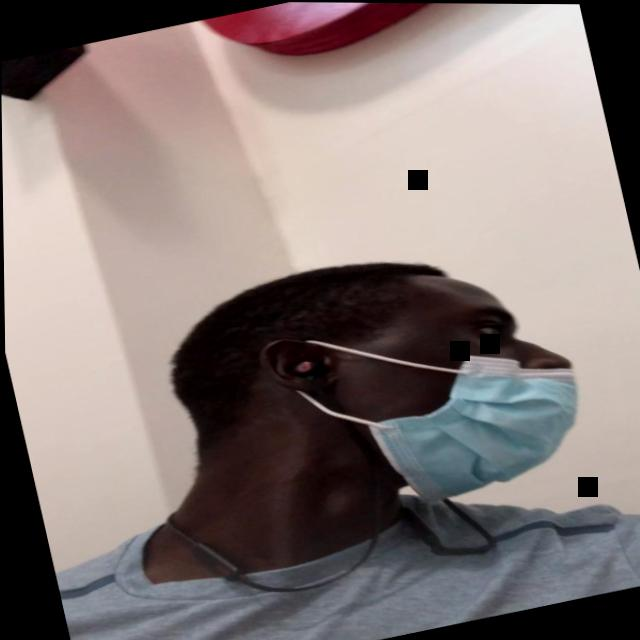Mask: (282, 256, 598, 524)
